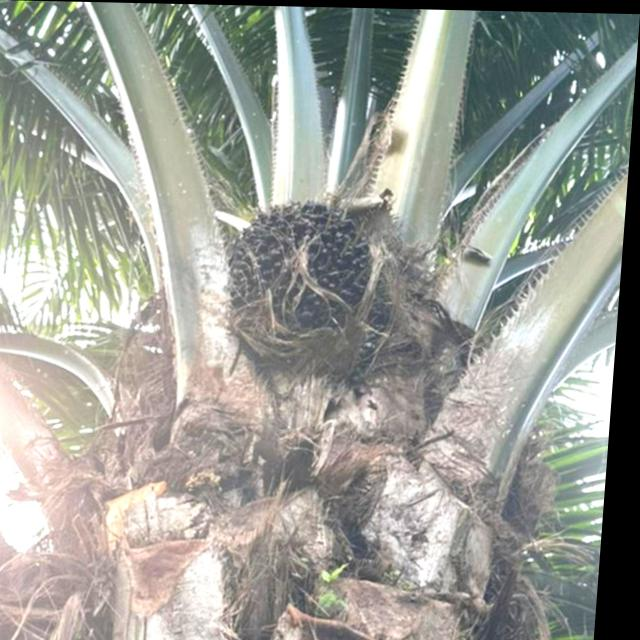unripe: (211, 184, 427, 394)
